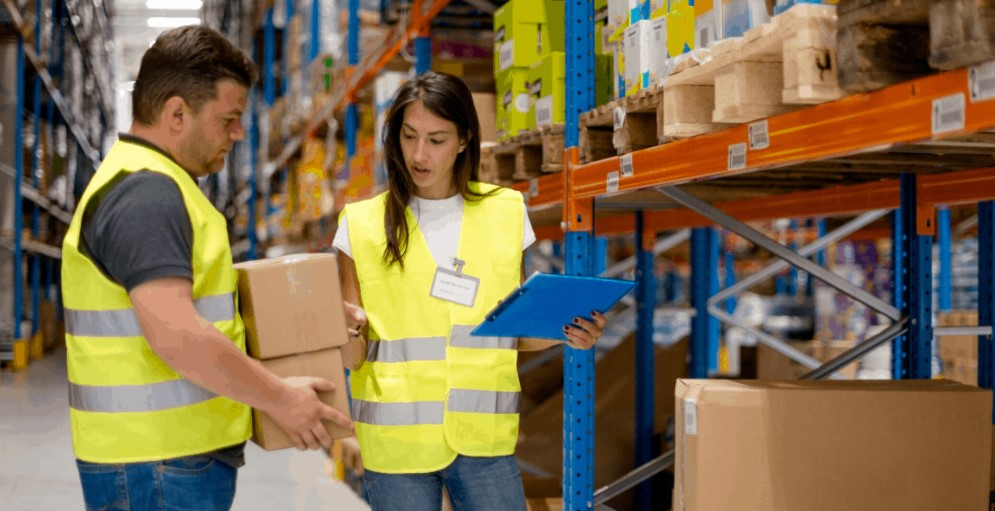stock: (237, 251, 348, 356)
worker: (61, 36, 252, 459), (350, 89, 523, 472)
